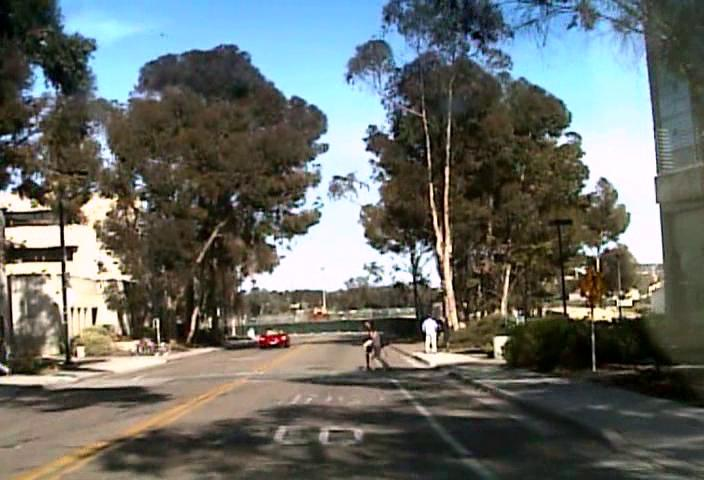pedestrianCrossing: (580, 266, 607, 303)
